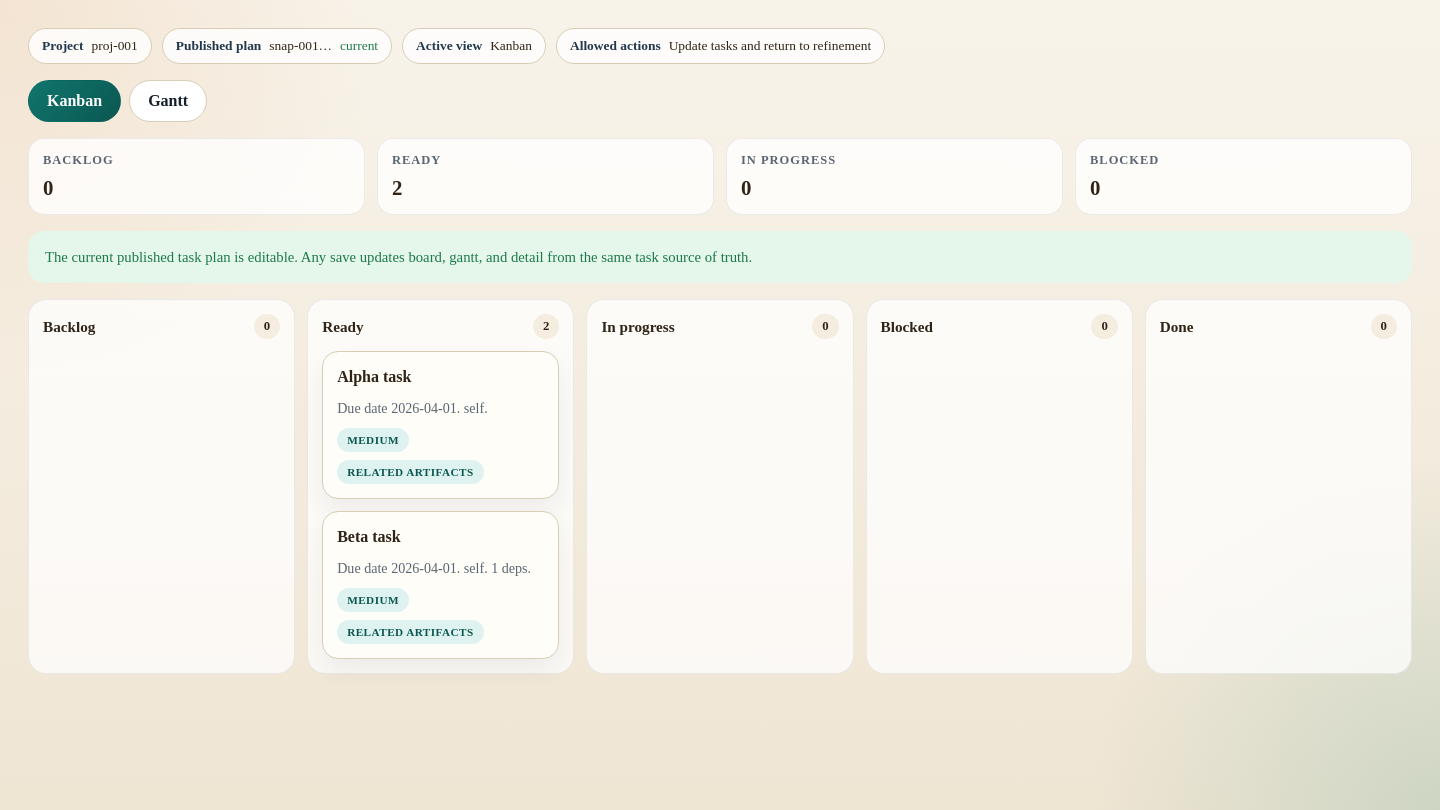
Scenario: ManagementWorkspace › syncs drawer fields when another task is selected and exposes a close button
Click the element with test id "task-card-task-b" at point(441, 585), box [322,511,559,659]
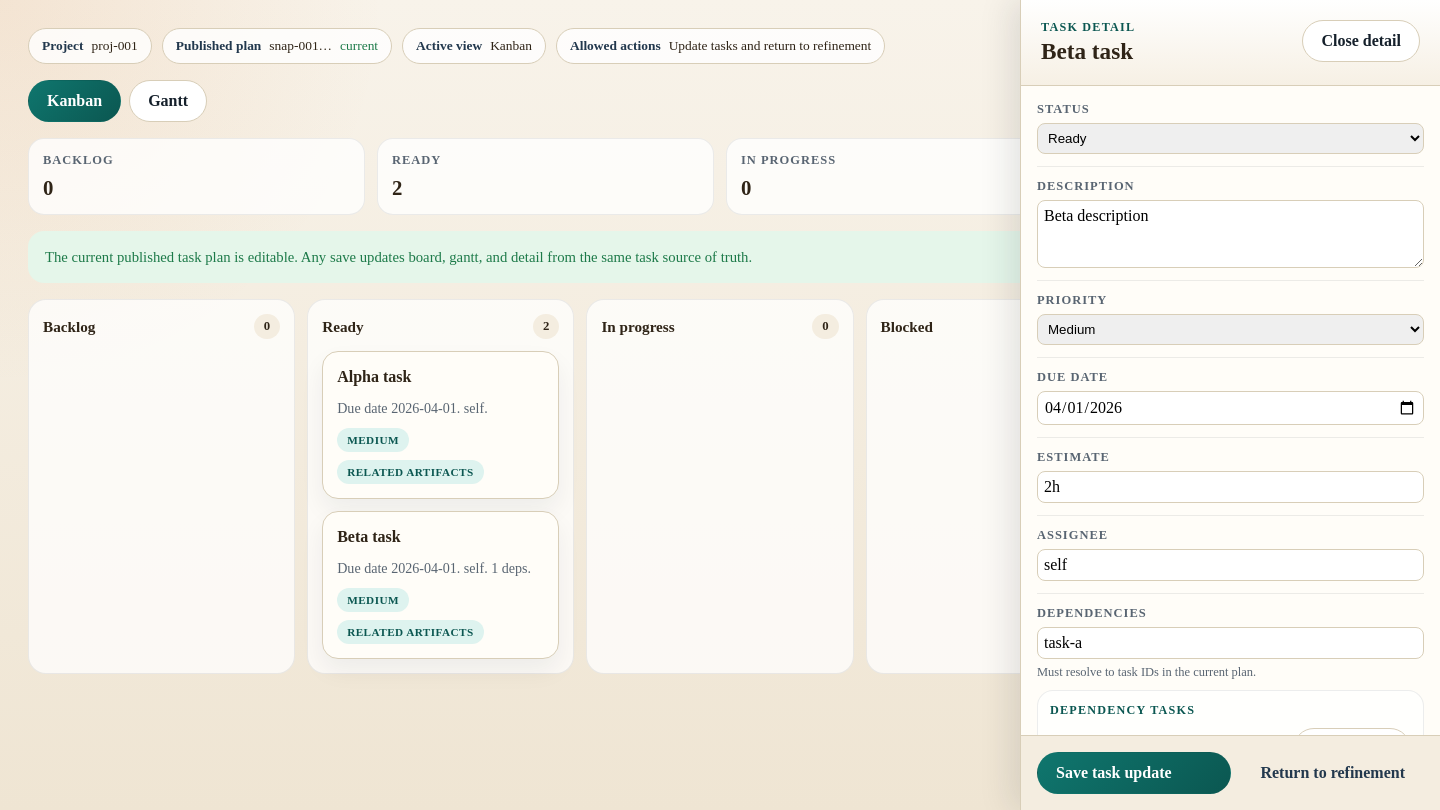
Result: the button with test id "close-drawer-button" reads "Close detail" at [1302,20,1420,62]
Result: the heading "Beta task" is shown at [1041,39,1135,64]
Result: the text box with test id "drawer-description-input" holds "Beta description" at [1037,200,1424,268]
Click the element with test id "task-card-task-a" at point(441, 425), box [322,351,559,499]
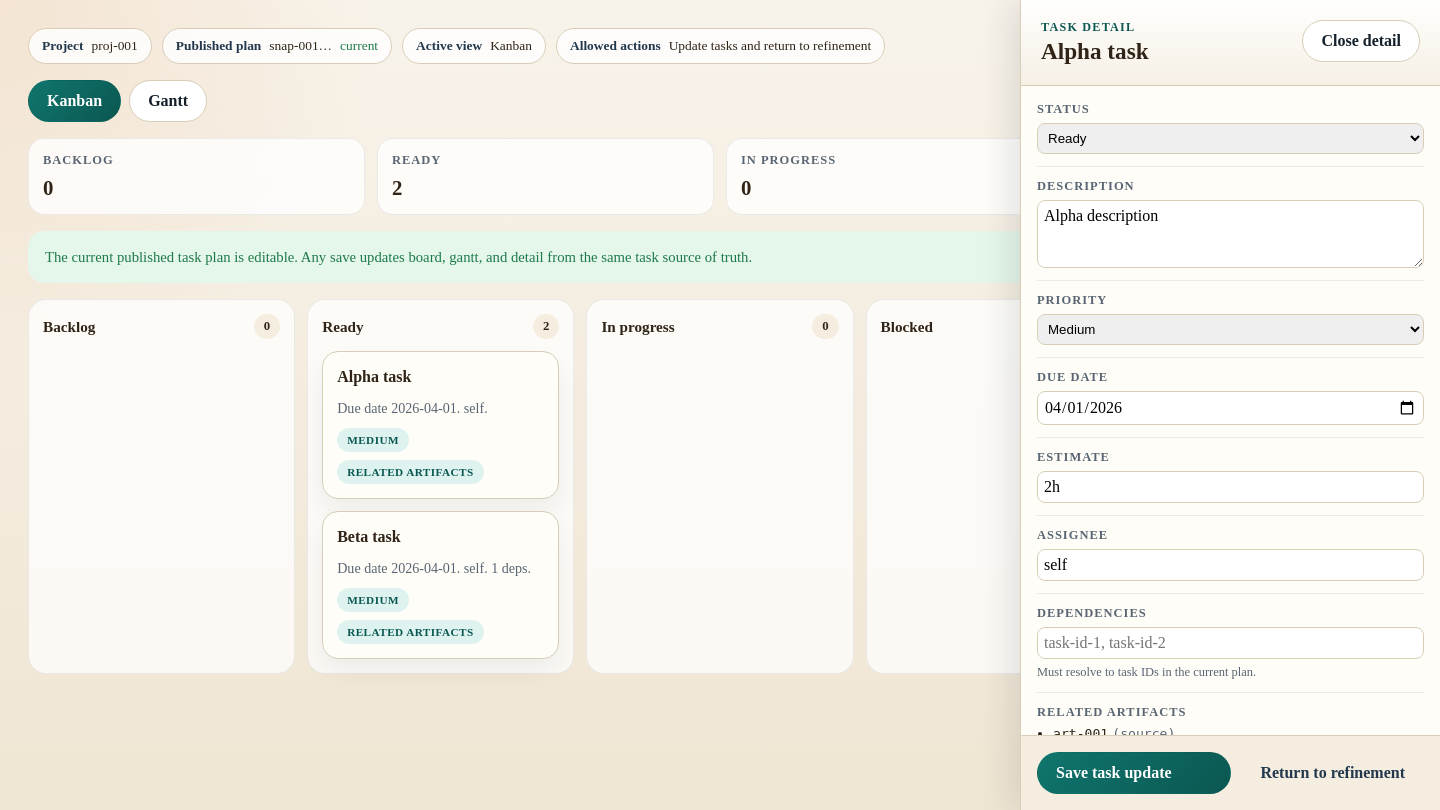
Result: the heading "Alpha task" is shown at [1041,39,1149,64]
Result: the text box with test id "drawer-description-input" holds "Alpha description" at [1037,200,1424,268]
Result: the element with test id "dependency-list" is gone
